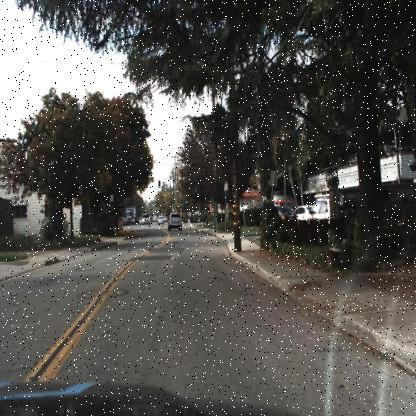car: (304, 192, 332, 226), (167, 208, 183, 234), (292, 202, 311, 223)
